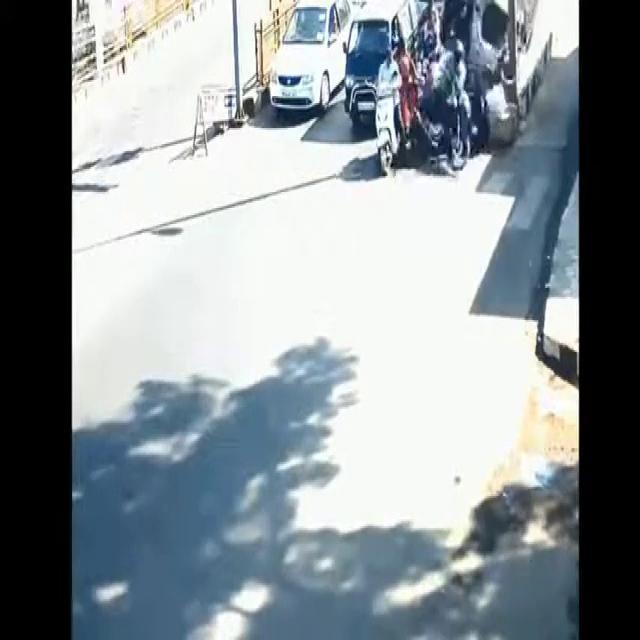accident: (402, 0, 533, 210)
